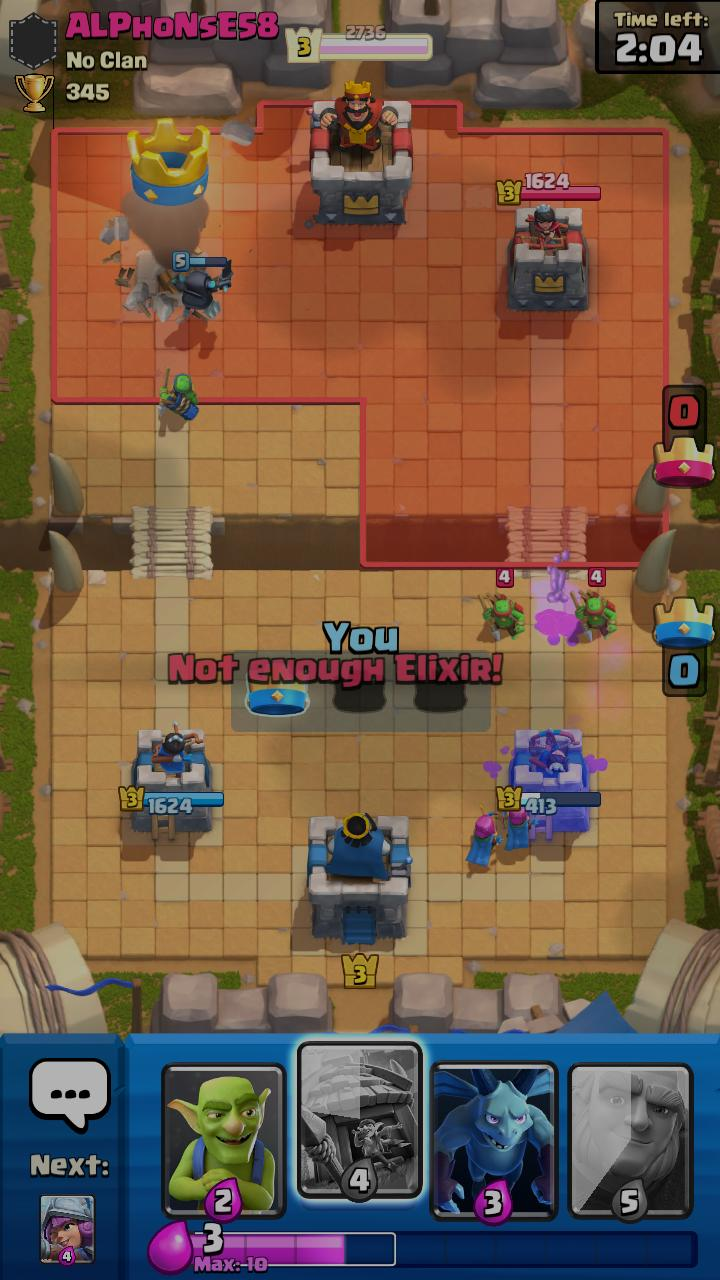ally: (172, 251, 234, 318), (465, 804, 506, 866), (158, 366, 200, 421), (497, 807, 539, 851)
enemy: (569, 567, 618, 642), (478, 568, 526, 642)
